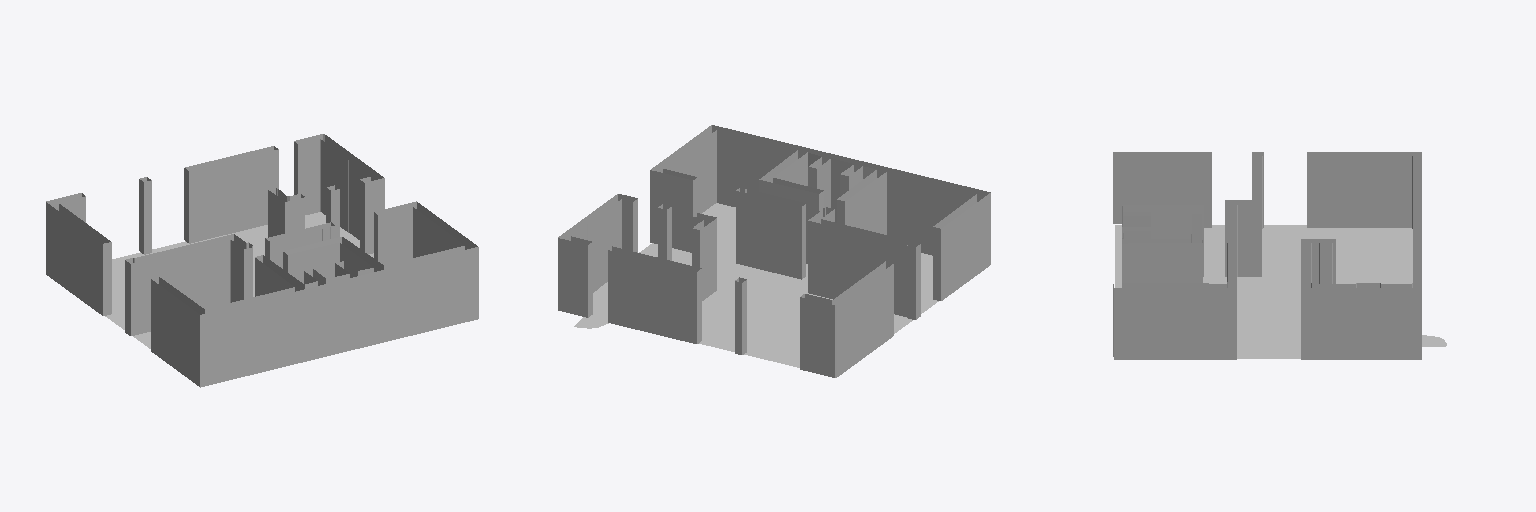
The model's file is floorplan4.obj.
3 renders of one model, left to right at view 1: azimuth 30°, elevation 25°; view 2: azimuth 150°, elevation 25°; view 3: azimuth 270°, elevation 25°, orthographic.
Visible parts, largest first — view 1: Box8Wall97, Box1Wall7, Box7Wall63, Box2Wall15, Box8Wall96, Box8Wall73, Room0, Box5Wall35, Box8Wall74, Box8Wall79, Box5Wall45, Box5Wall41 (+10 smaller); view 2: Room0, Box1Wall5, Box7Wall58, Box6Wall47, Box2Wall15, Box8Wall93, Box8Wall96, Box8Wall75, Box2Wall13, Box8Wall71, Box5Wall33, Box8Wall74 (+14 smaller); view 3: Room0, Box8Wall70, Box5Wall31, Box2Wall9, Box8Wall94, Box8Wall76, Floor, Box8Wall90, Box7Wall57, Room1, Box8Wall96, Room2 (+2 smaller).
Part boxes in pixels (left/top/right/bottom): Box8Wall97: left=200, top=247, right=478, bottom=387; Box1Wall7: left=189, top=149, right=278, bottom=243; Box7Wall63: left=131, top=240, right=229, bottom=335; Box2Wall15: left=46, top=202, right=102, bottom=315; Box8Wall96: left=151, top=279, right=199, bottom=386; Box8Wall73: left=378, top=207, right=412, bottom=264; Room0: left=112, top=213, right=359, bottom=322; Box5Wall35: left=298, top=139, right=319, bottom=214; Box8Wall74: left=413, top=207, right=464, bottom=257; Box8Wall79: left=288, top=243, right=339, bottom=283; Box5Wall45: left=365, top=178, right=384, bottom=254; Box5Wall41: left=349, top=160, right=370, bottom=239; Room0: left=593, top=268, right=905, bottom=363; Box1Wall5: left=608, top=250, right=696, bottom=343; Box7Wall58: left=808, top=221, right=906, bottom=316; Box6Wall47: left=736, top=191, right=801, bottom=279; Box2Wall15: left=837, top=264, right=893, bottom=376; Box8Wall93: left=887, top=172, right=975, bottom=255; Box8Wall96: left=941, top=193, right=990, bottom=300; Box8Wall75: left=717, top=130, right=796, bottom=206; Box2Wall13: left=800, top=297, right=834, bottom=377; Box8Wall71: left=650, top=170, right=692, bottom=252; Box5Wall33: left=558, top=238, right=587, bottom=317; Box8Wall74: left=663, top=130, right=716, bottom=213; Room0: left=1239, top=229, right=1411, bottom=347; Box8Wall70: left=1114, top=288, right=1236, bottom=359; Box5Wall31: left=1301, top=288, right=1421, bottom=359; Box2Wall9: left=1307, top=156, right=1411, bottom=227; Box8Wall94: left=1122, top=156, right=1211, bottom=227; Box8Wall76: left=1122, top=243, right=1202, bottom=282; Floor: left=1115, top=225, right=1446, bottom=358; Box8Wall90: left=1122, top=205, right=1203, bottom=276; Box7Wall57: left=1238, top=205, right=1261, bottom=276; Room1: left=1239, top=317, right=1299, bottom=354; Box8Wall96: left=1113, top=152, right=1211, bottom=223; Room2: left=1204, top=229, right=1224, bottom=271.
Size of the model in its own units: 4.01 by 1 by 4.17.